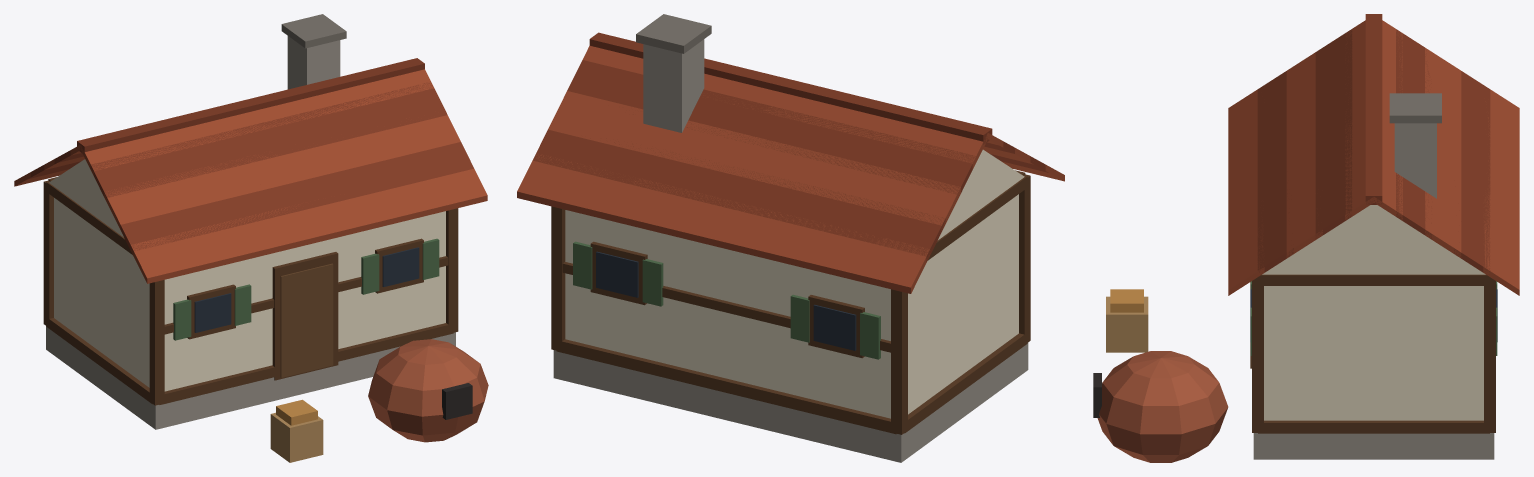
Rendered from bakery.glb.
The picture shows the model from 3 angles, left to right: view 1: azimuth 30°, elevation 25°; view 2: azimuth 150°, elevation 25°; view 3: azimuth 270°, elevation 25°; orthographic projection. The views are drawn at different scales.
Visible parts, largest first — view 1: bakery; view 2: bakery; view 3: bakery.
Part boxes in pixels (x1,y1,x2,y2): bakery: (14,14,488,462); bakery: (517,14,1064,462); bakery: (1093,14,1519,462).
Size of the model in its own units: 5.1 by 4.61 by 5.05.
